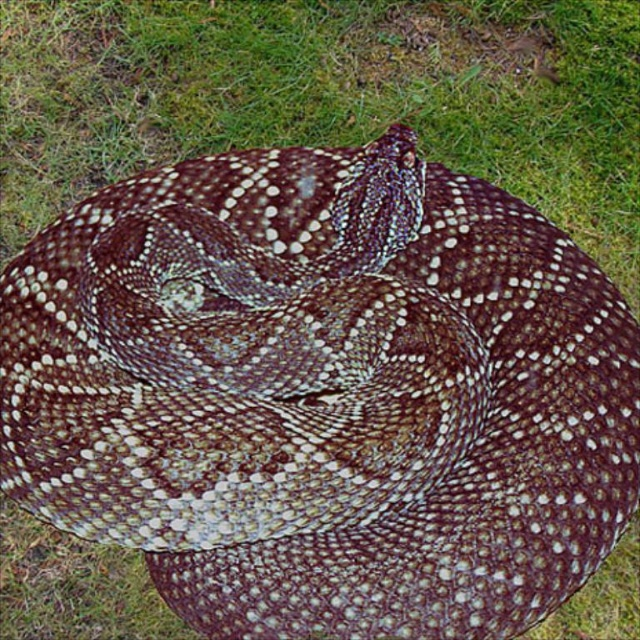Snake: (0, 123, 639, 639)
